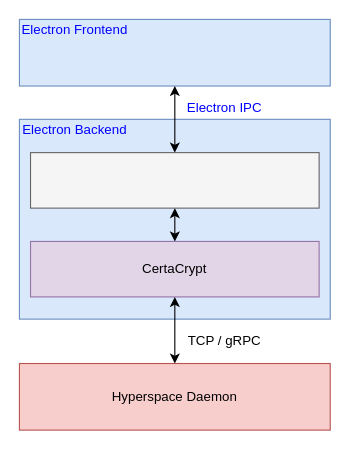
This 350x450 diagram has some shape labels left out. Here are the shapes that lost their labels. From the top down, the box of each, then its label:
(18, 18, 330, 86): File Manager UI (Angular Web App)
(29, 152, 319, 208): Backend Business Logic
